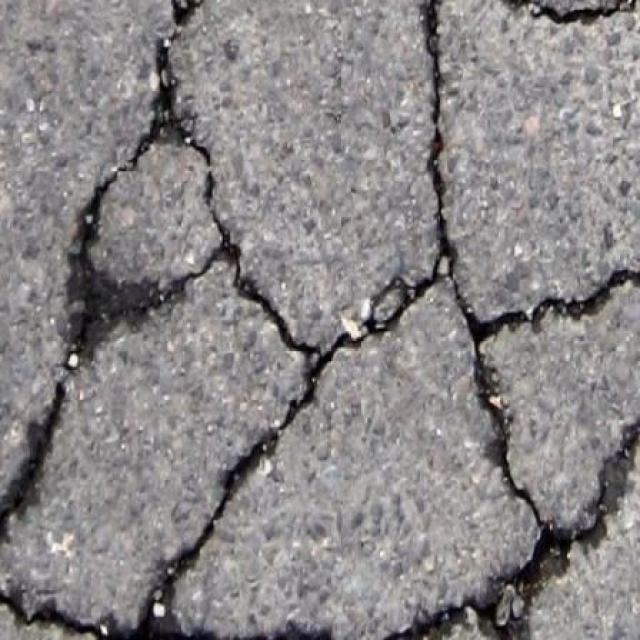Crack: (0, 0, 640, 640), (0, 379, 68, 538), (502, 0, 640, 26)
